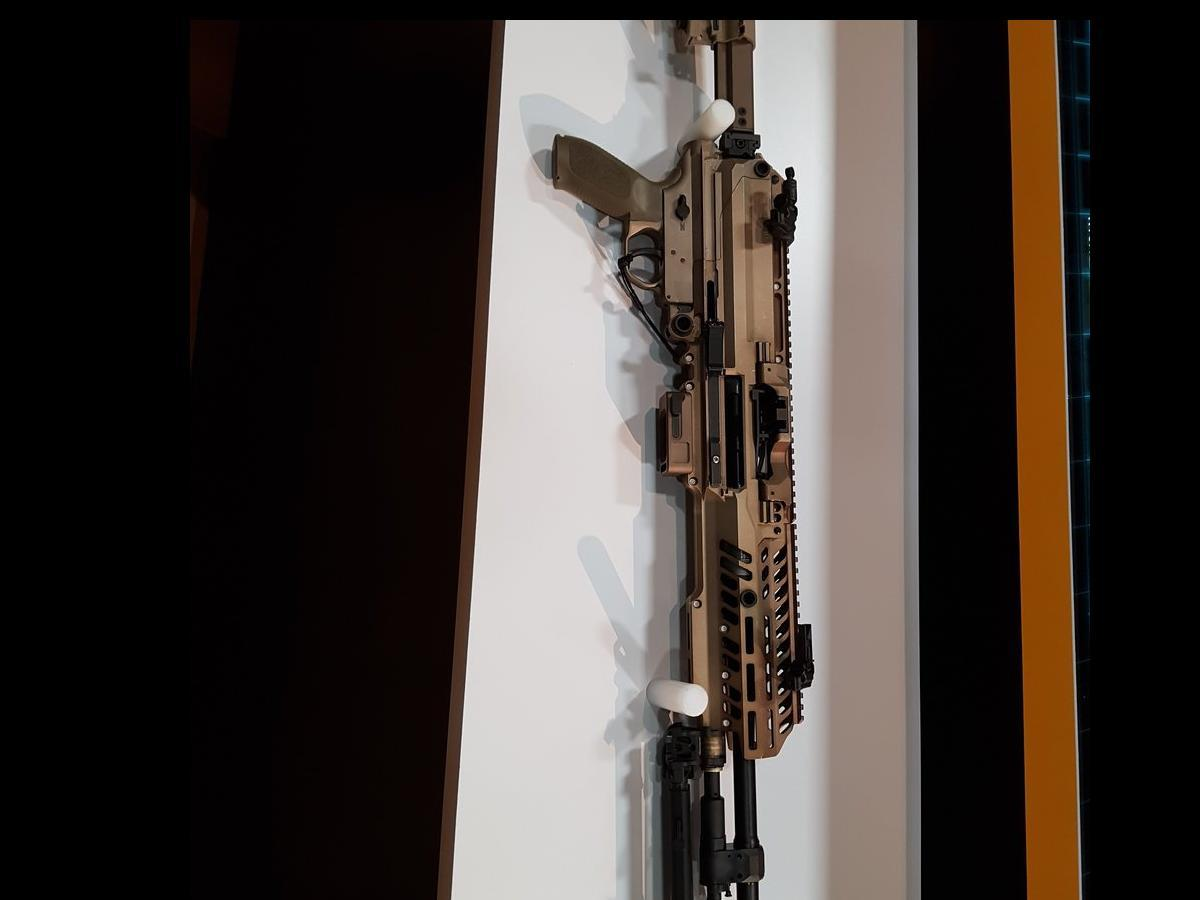larga: (548, 18, 819, 900)
